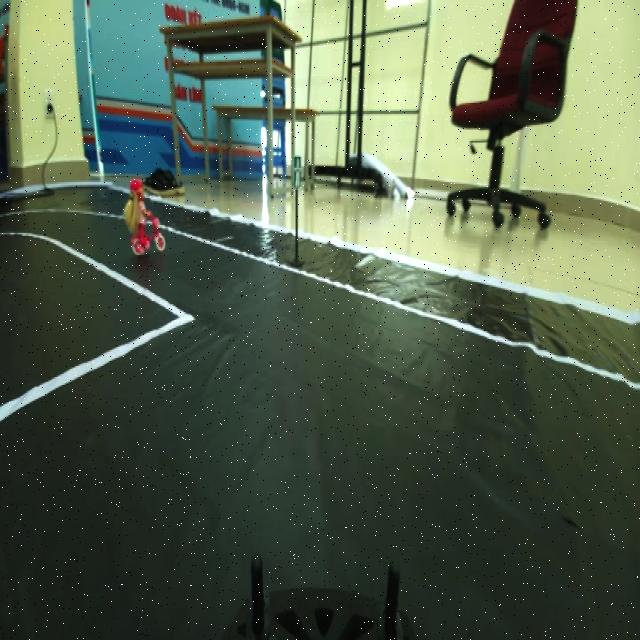pedestrian: (112, 180, 172, 256)
